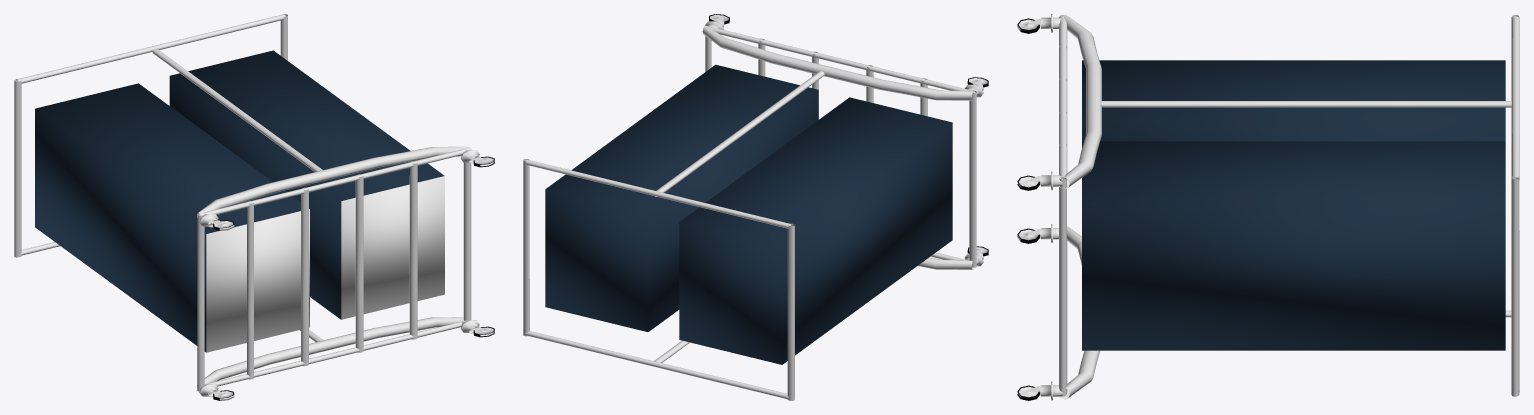
3 renders of one model, left to right at view 1: azimuth 30°, elevation 25°; view 2: azimuth 150°, elevation 25°; view 3: azimuth 270°, elevation 25°, orthographic. The views are drawn at different scales.
Parts seen in each view (by area): view 1: Circle; view 2: Circle; view 3: Circle.
Boxes of the visible parts, x1,y1,x2,y2 form: Circle: [14, 14, 494, 400]; Circle: [523, 14, 988, 400]; Circle: [1017, 14, 1519, 400].
Bounding box in the file's own units: 77 × 47 × 95.
